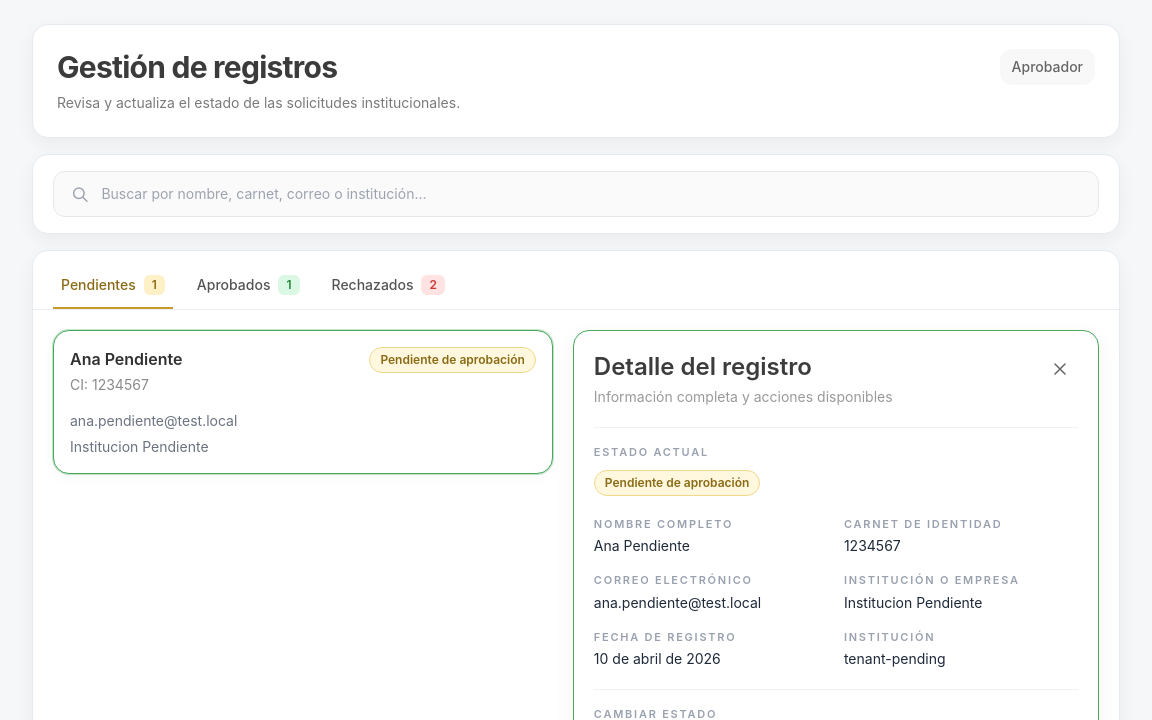
Test: MX-02 | Gestión de instituciones, administradores y wallets | Frontend Admin | Aprobaciones › [MX-02][D-REQ-001][INTEGRACION] muestra solicitudes pendientes y permite buscar la institución solicitada
This screenshot has width=1152, height=720.
Expected: the heading "Gestión de registros" is shown, [57,49,337,85]
Expected: the text "Aprobador" is shown, [1000,49,1095,85]
Step 1. Type "sin resultados" into the search field with placeholder "Buscar por nombre, carnet, correo o institución..." → (592, 194), box [101,184,1082,204]
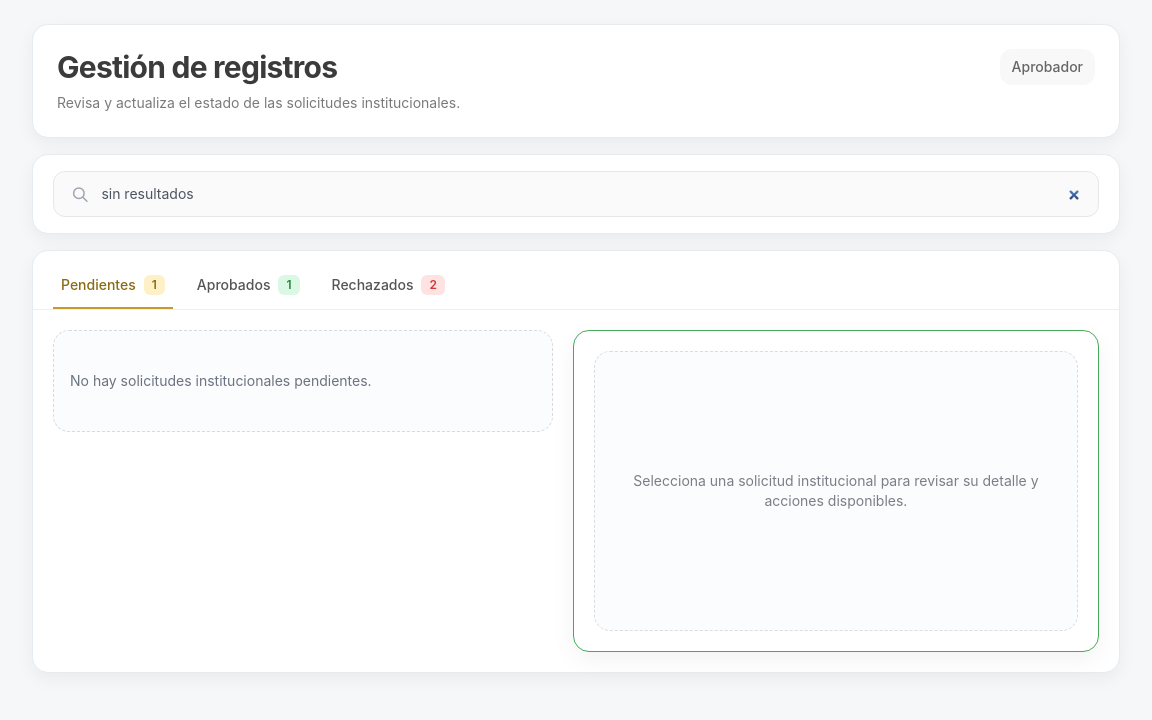
Now the text "No hay solicitudes institucionales pendientes." is shown, box [53,330,553,432]
